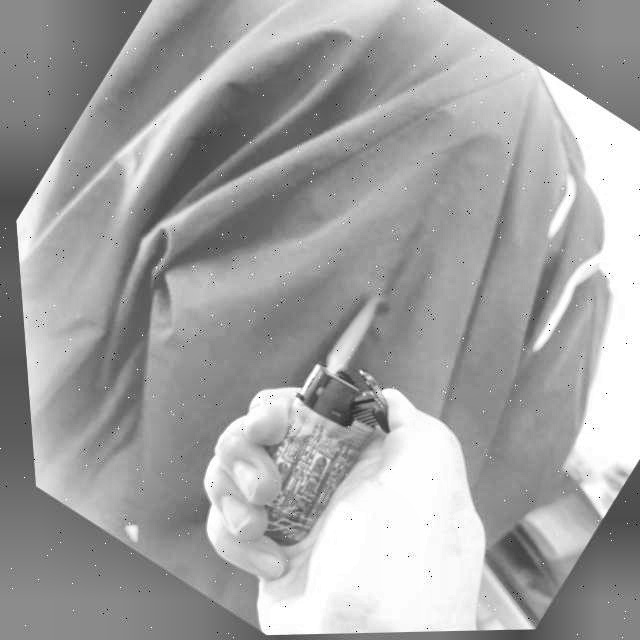Fire: (309, 297, 382, 379)
